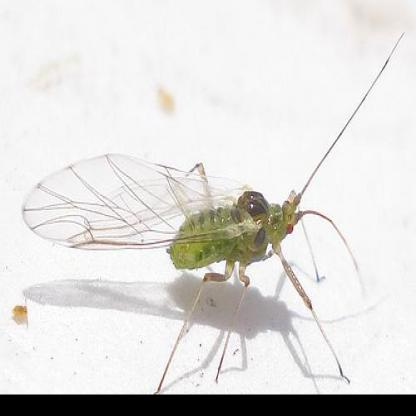aphid: (18, 75, 391, 353)
